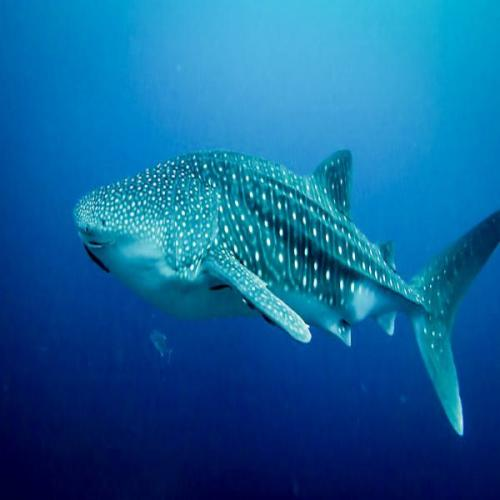shark-endangered: (72, 146, 490, 436)
